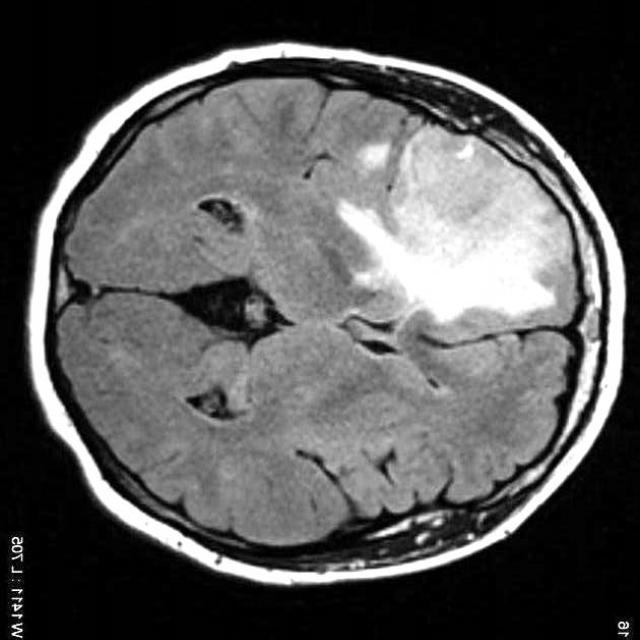tumor: (340, 119, 582, 345)
